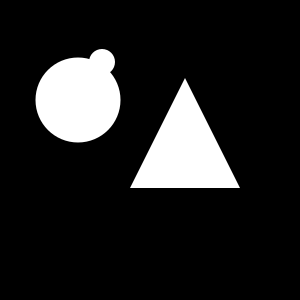rectangle: (36, 57, 120, 142), (89, 49, 115, 75)
triangle: (130, 78, 240, 188)
